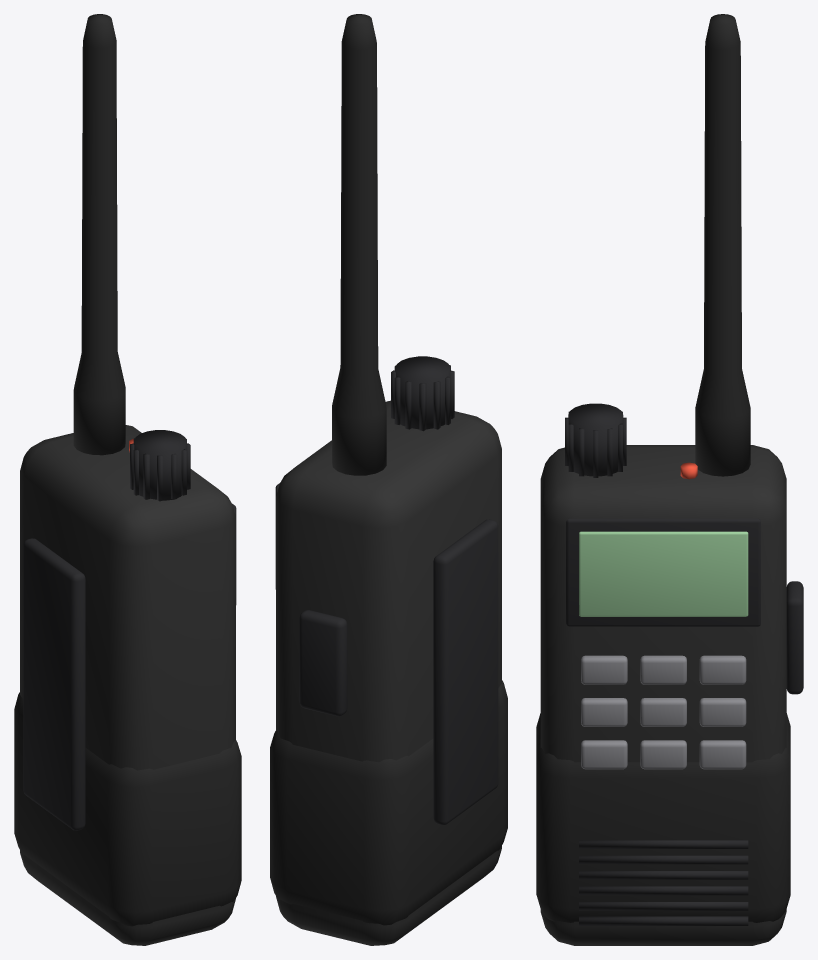
Rendered from SM_Radio.glb.
3 views of the same model, side by side, from view 1: azimuth 30°, elevation 25°; view 2: azimuth 150°, elevation 25°; view 3: azimuth 270°, elevation 25° (orthographic). The views are drawn at different scales.
Visible parts, largest first — view 1: SM_Radio; view 2: SM_Radio; view 3: SM_Radio.
Boxes of the visible parts, box(x1,y1,x2,y2) form: SM_Radio: box(14, 14, 241, 945); SM_Radio: box(270, 14, 507, 945); SM_Radio: box(536, 14, 803, 945).
Bounding box in the file's own units: 0.0425 × 0.237 × 0.063.
